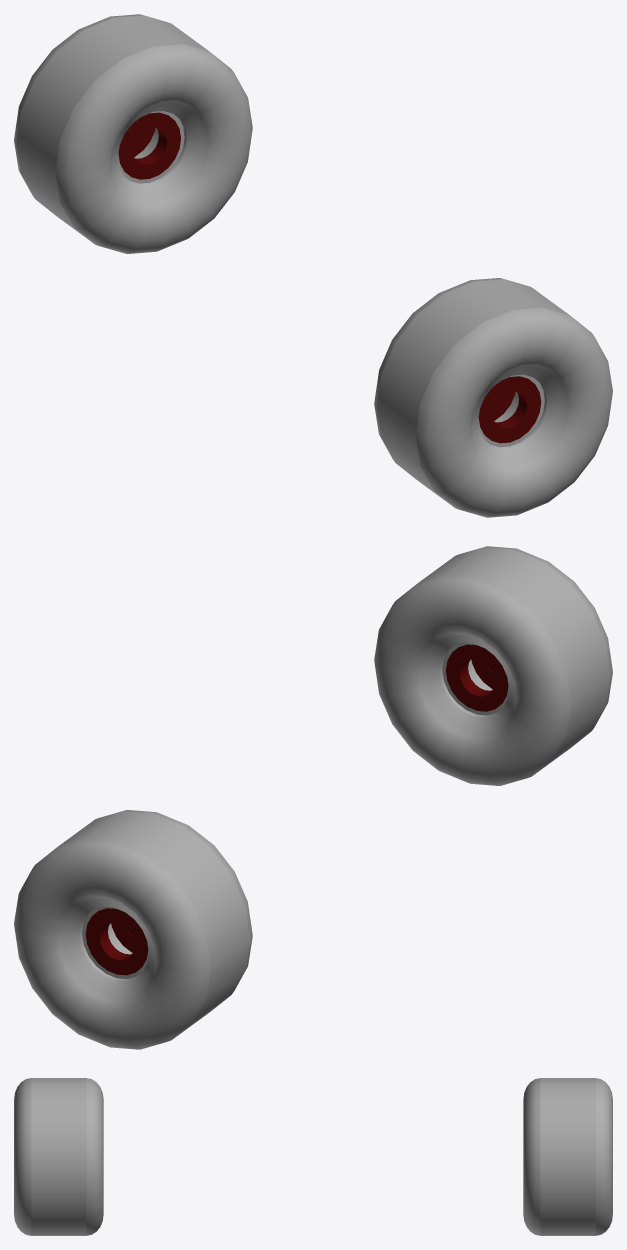
The model's file is SmallWheels.fbx.
The picture shows the model from 3 angles, top to bottom: view 1: azimuth 30°, elevation 25°; view 2: azimuth 150°, elevation 25°; view 3: azimuth 270°, elevation 25°; orthographic projection. The views are drawn at different scales.
Visible parts, largest first — view 1: SmallWheels; view 2: SmallWheels; view 3: SmallWheels.
Boxes of the visible parts, x1,y1,x2,y2 form: SmallWheels: (14, 14, 612, 517); SmallWheels: (14, 546, 612, 1049); SmallWheels: (14, 1078, 612, 1235).
Size of the model in its own units: 0.55 by 0.55 by 2.07.
